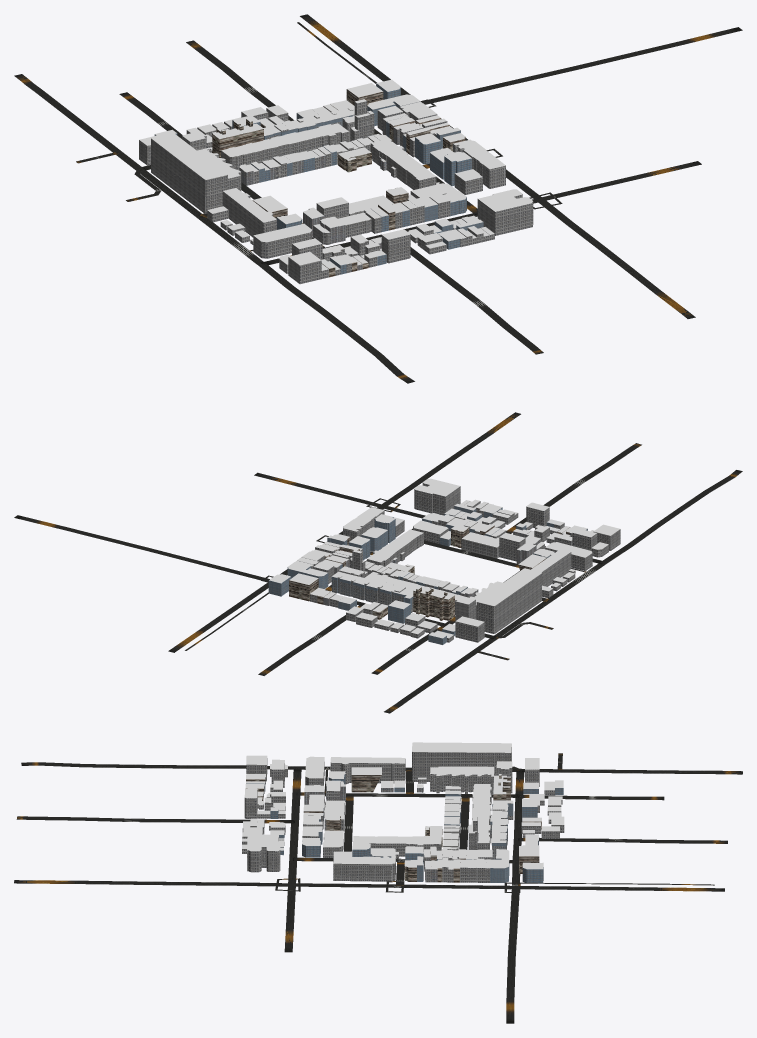
The picture shows the model from 3 angles, top to bottom: view 1: azimuth 30°, elevation 25°; view 2: azimuth 150°, elevation 25°; view 3: azimuth 270°, elevation 25°; orthographic projection. The views are drawn at different scales.
Parts seen in each view (by area): view 1: map_14.osm_buildings, roof, map_14.osm_roads_tertiary, map_14.osm_roads_residential; view 2: map_14.osm_buildings, roof, map_14.osm_roads_tertiary, map_14.osm_roads_residential; view 3: roof, map_14.osm_buildings, map_14.osm_roads_tertiary, map_14.osm_roads_residential, map_14.osm_paths_footway.
Part boxes in pixels (x1=…): map_14.osm_buildings: x1=139, y1=83, x2=533, y2=284; roof: x1=139, y1=79, x2=532, y2=270; map_14.osm_roads_tertiary: x1=14, y1=14, x2=742, y2=383; map_14.osm_roads_residential: x1=119, y1=40, x2=543, y2=354; map_14.osm_buildings: x1=268, y1=482, x2=620, y2=644; roof: x1=269, y1=478, x2=619, y2=638; map_14.osm_roads_tertiary: x1=14, y1=412, x2=742, y2=713; map_14.osm_roads_residential: x1=258, y1=443, x2=641, y2=675; roof: x1=242, y1=742, x2=564, y2=869; map_14.osm_buildings: x1=242, y1=747, x2=564, y2=883; map_14.osm_roads_tertiary: x1=14, y1=762, x2=742, y2=1023; map_14.osm_roads_residential: x1=16, y1=769, x2=727, y2=886; map_14.osm_paths_footway: x1=275, y1=768, x2=714, y2=892.
Size of the model in its own units: 56236 by 3374 by 63906.
11 materials, 10 textured.
